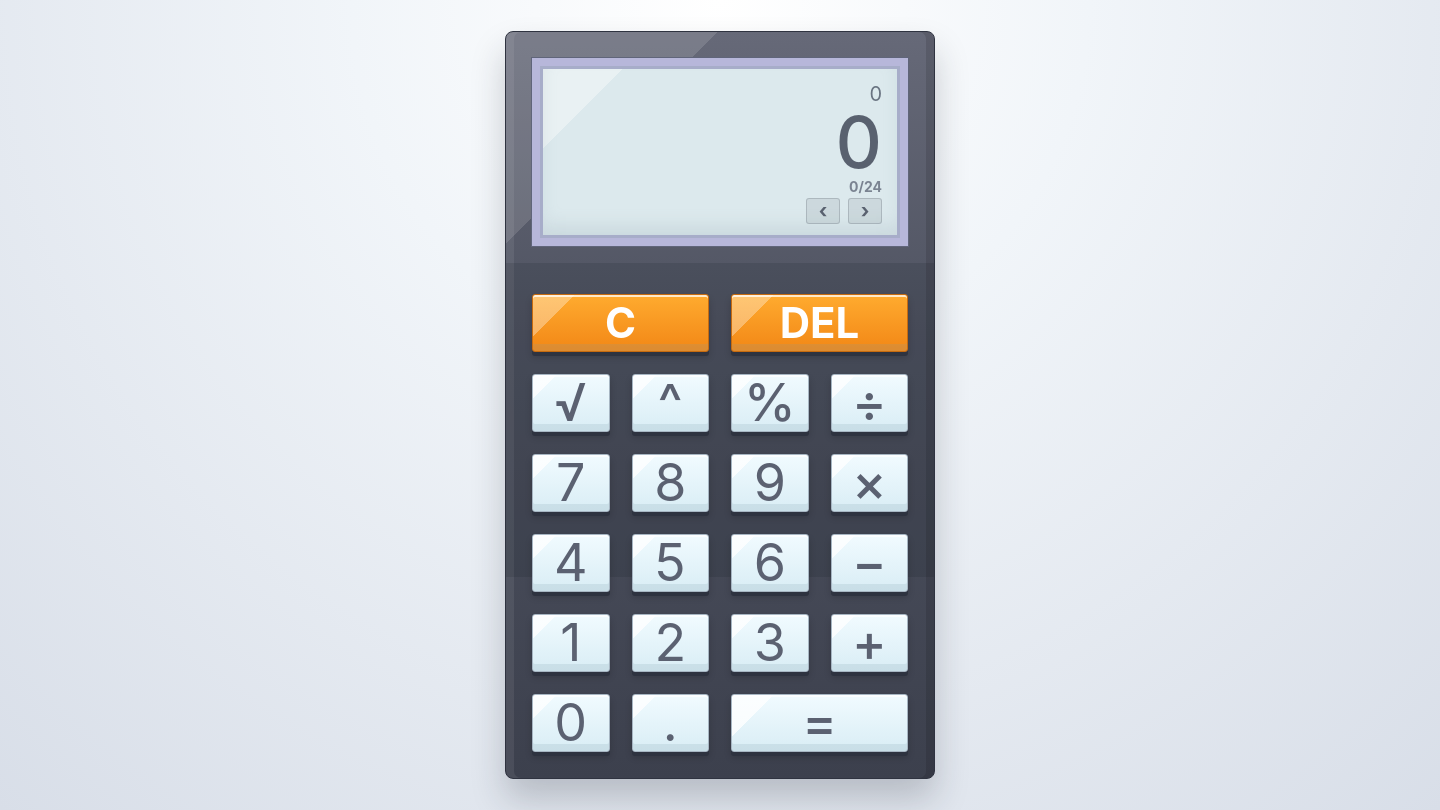
Scenario: App error handling › shows division by zero errors inside the display
The width and height of the screenshot is (1440, 810).
Click the button "8" at (670, 483), box x1=632 y1=454 x2=709 y2=512
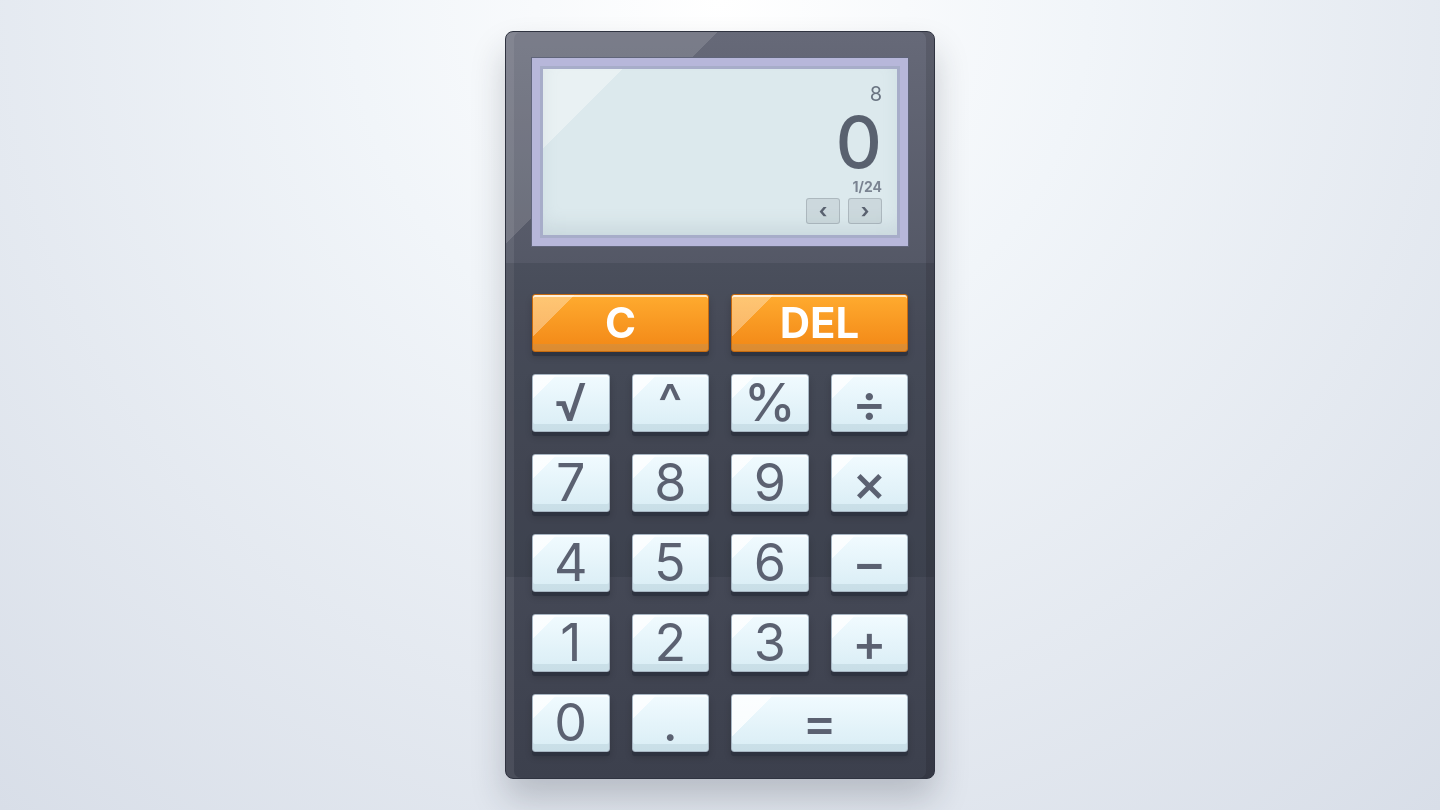
Click the button named "Dividir" at (869, 403), box x1=830 y1=374 x2=908 y2=432
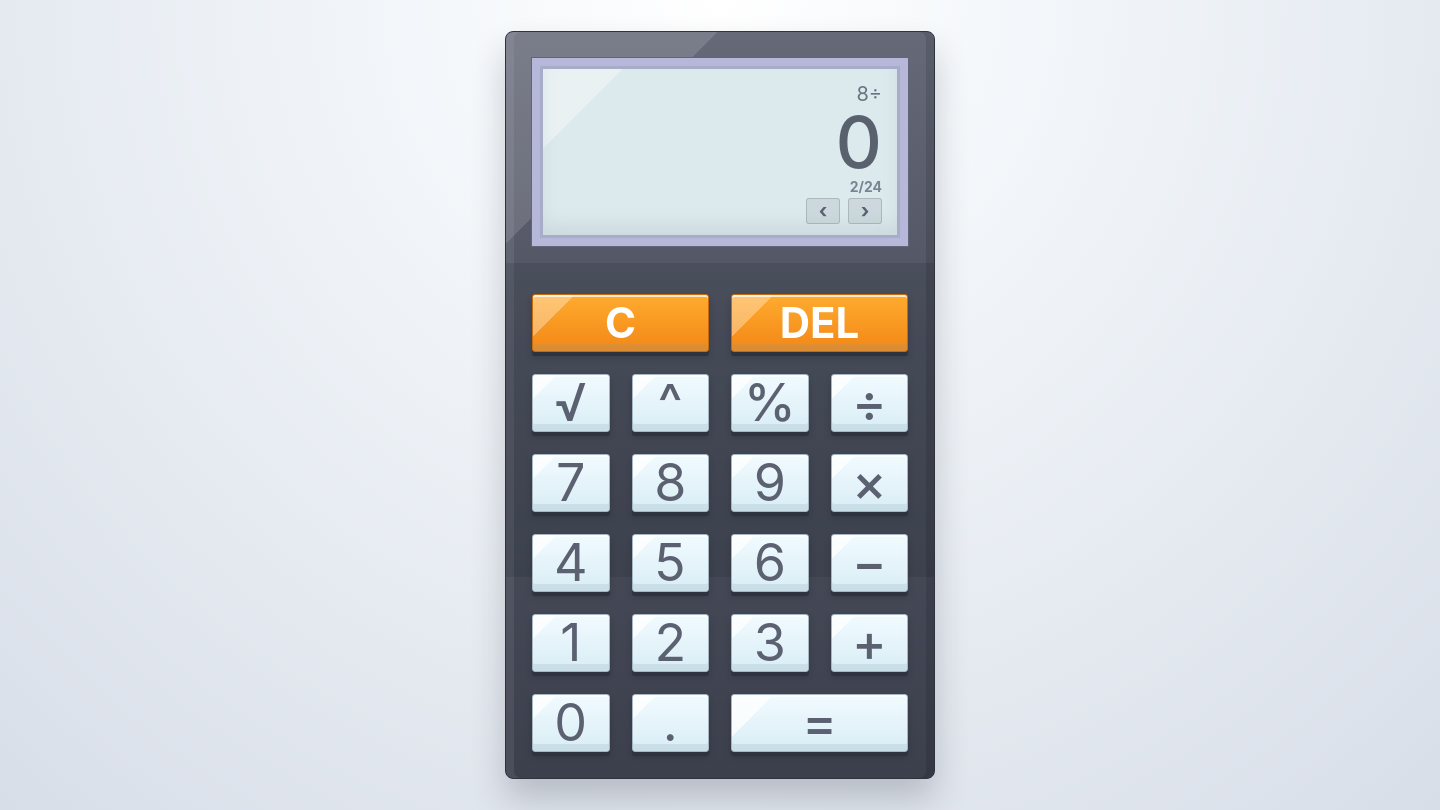
Click the button "0" at (571, 723), box x1=532 y1=694 x2=610 y2=752
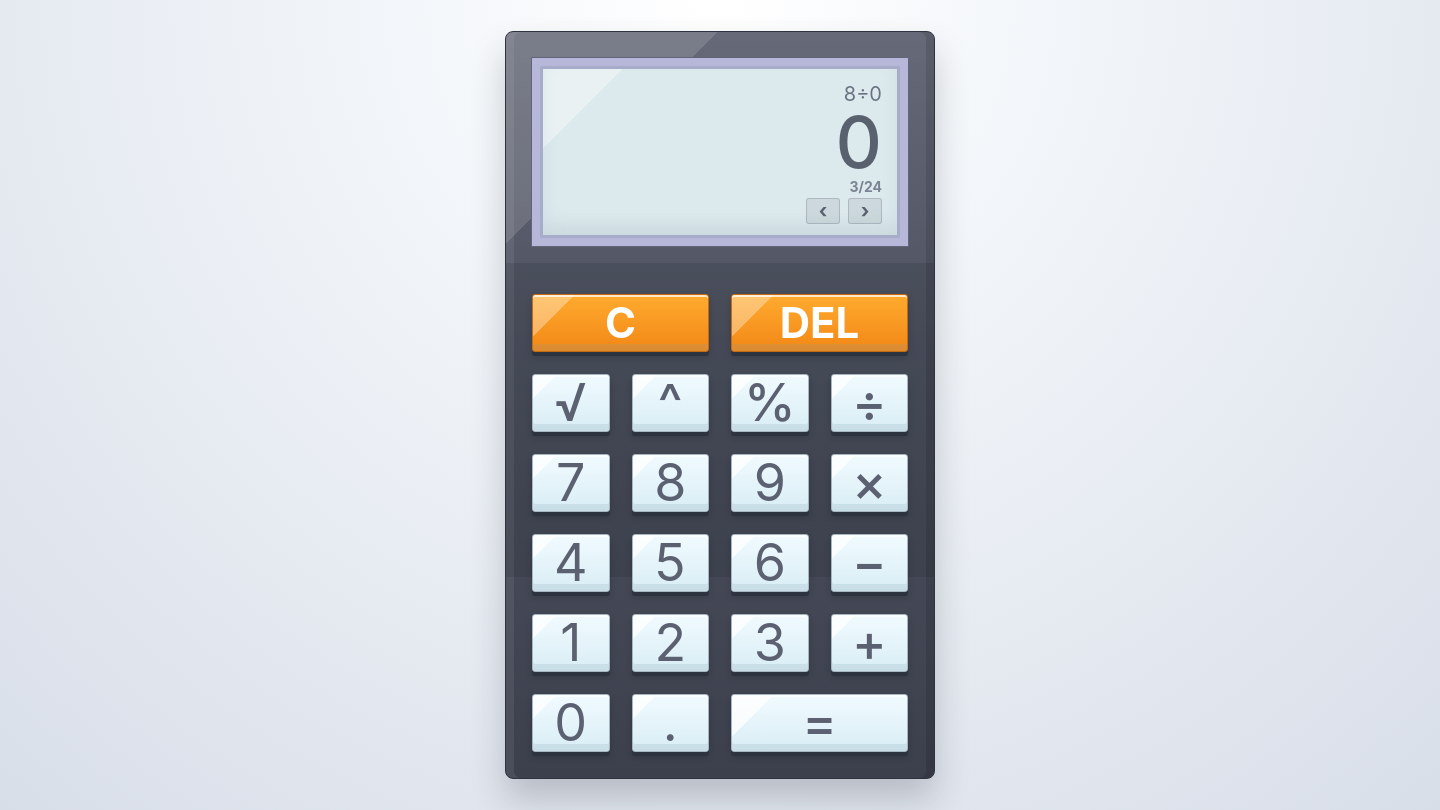
Click the button named "Calcular" at (820, 723), box x1=731 y1=694 x2=908 y2=752
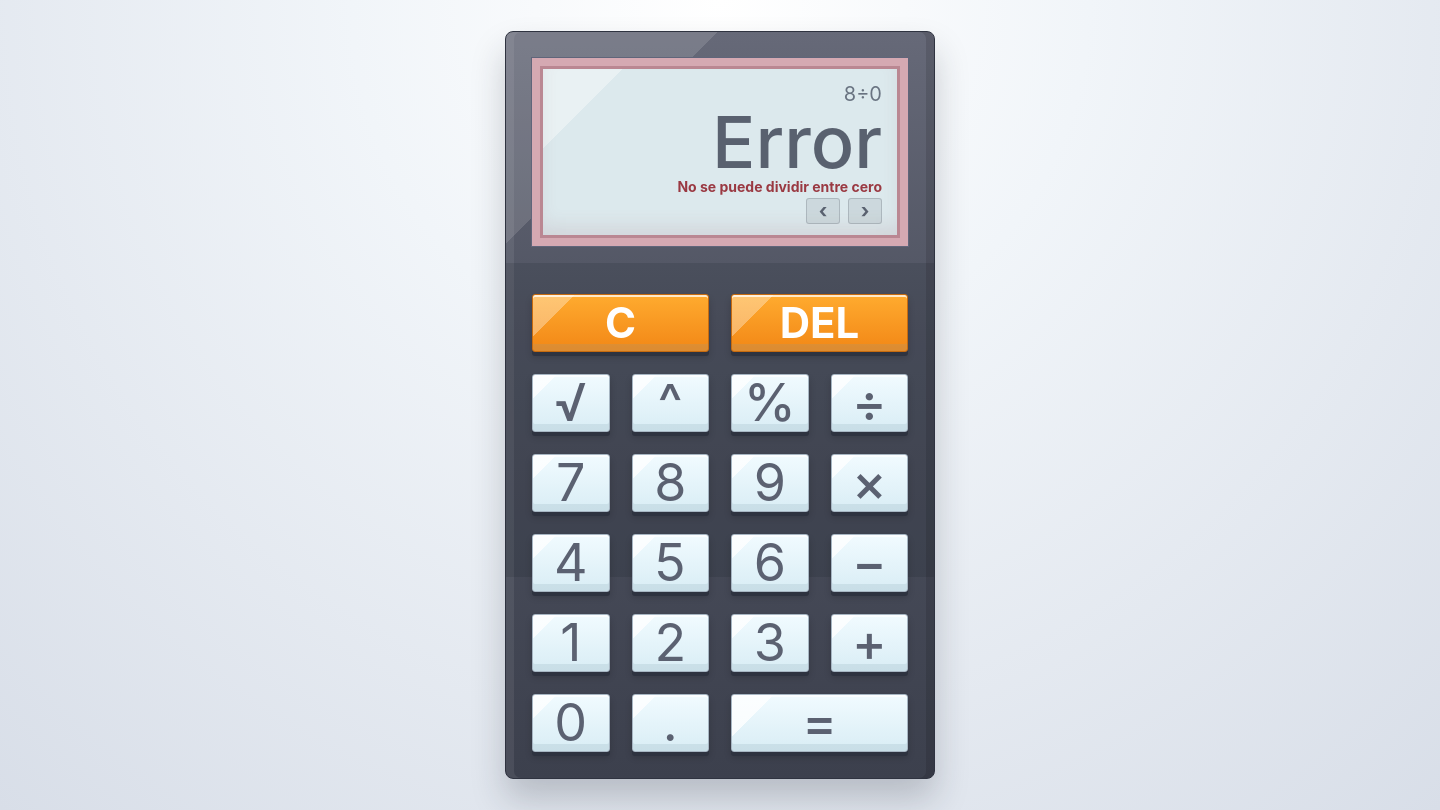
Result: the text with test id "expression-display" reads "8÷0" at x1=844 y1=82 x2=882 y2=106
Result: the text with test id "result-display" reads "Error" at x1=712 y1=98 x2=882 y2=185
Result: the message reads "No se puede dividir entre cero" at x1=677 y1=178 x2=882 y2=195
